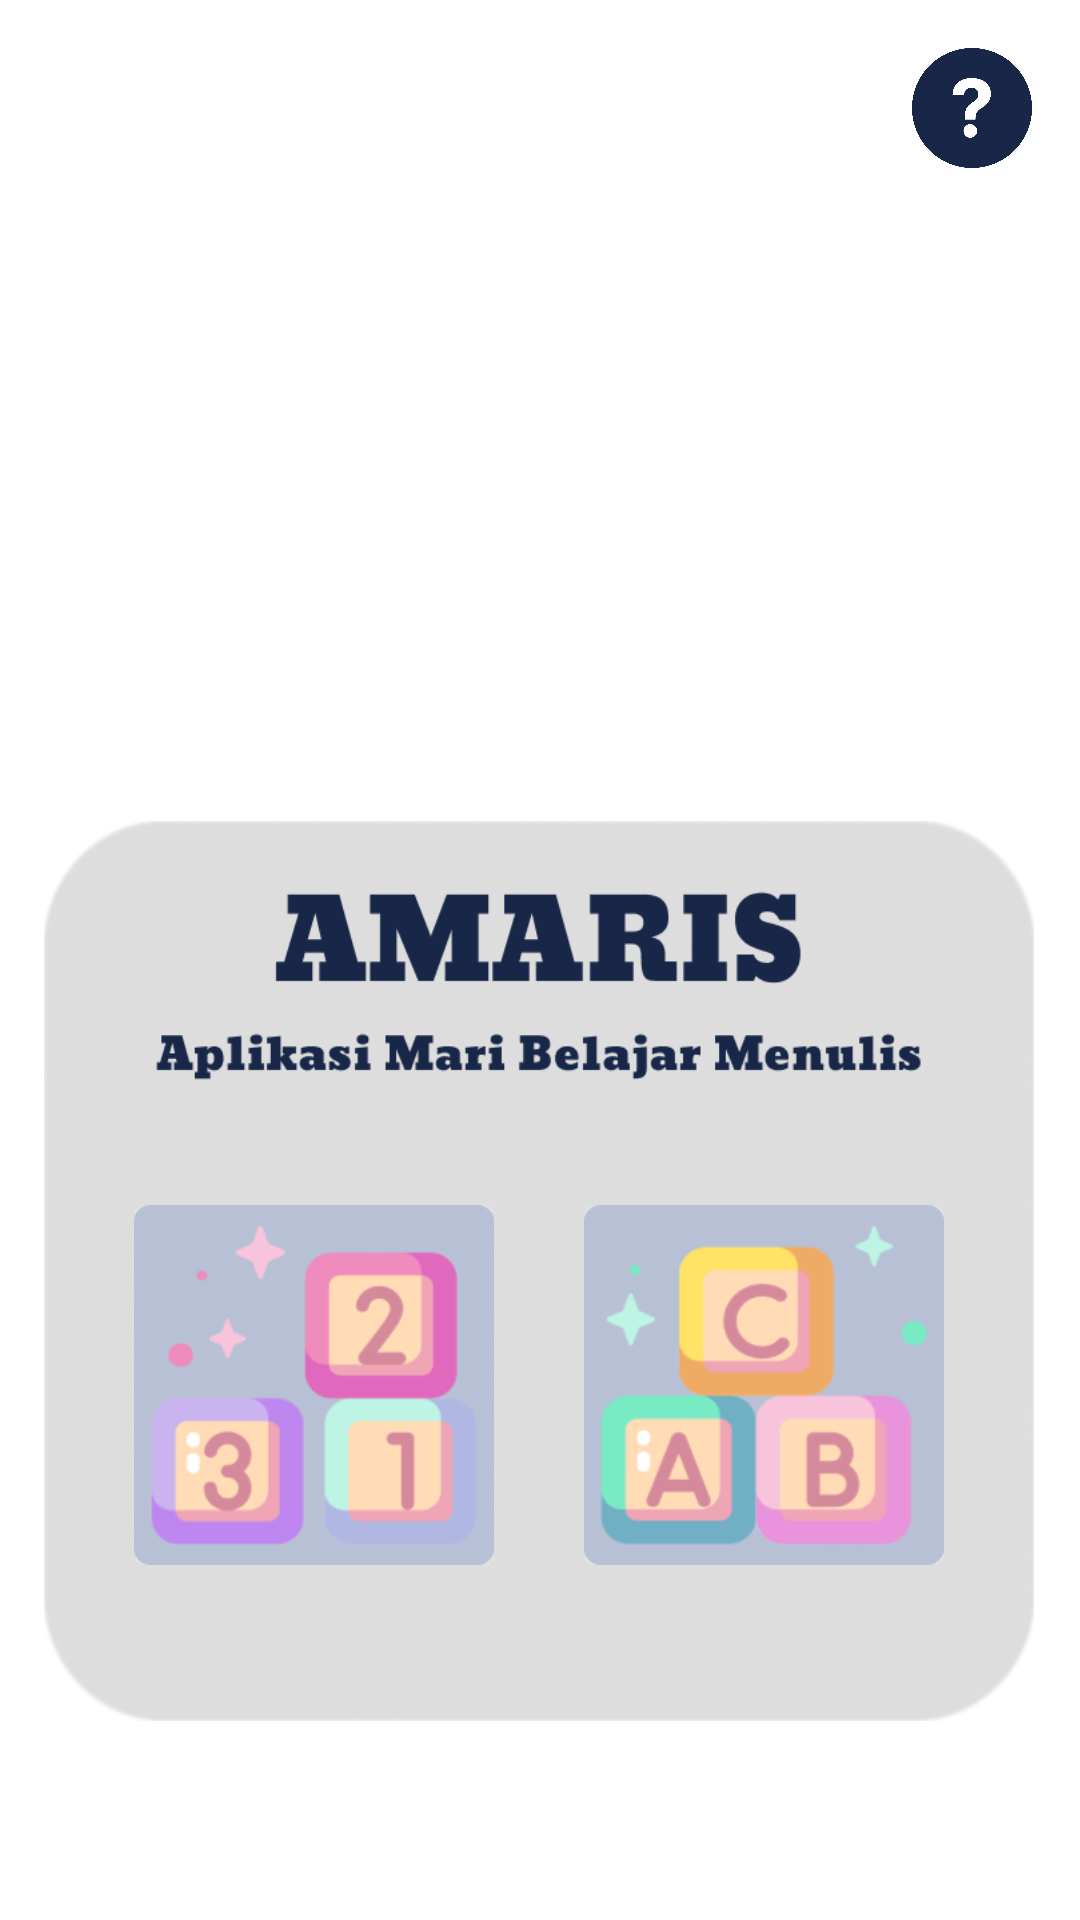

Named icons in this screenshot (1080x1920) and their bounding boxes, (x1, y1, x2, y2):
block: (134, 1205, 494, 1565)
blok: (584, 1205, 944, 1565)
tanya: (912, 48, 1032, 168)
